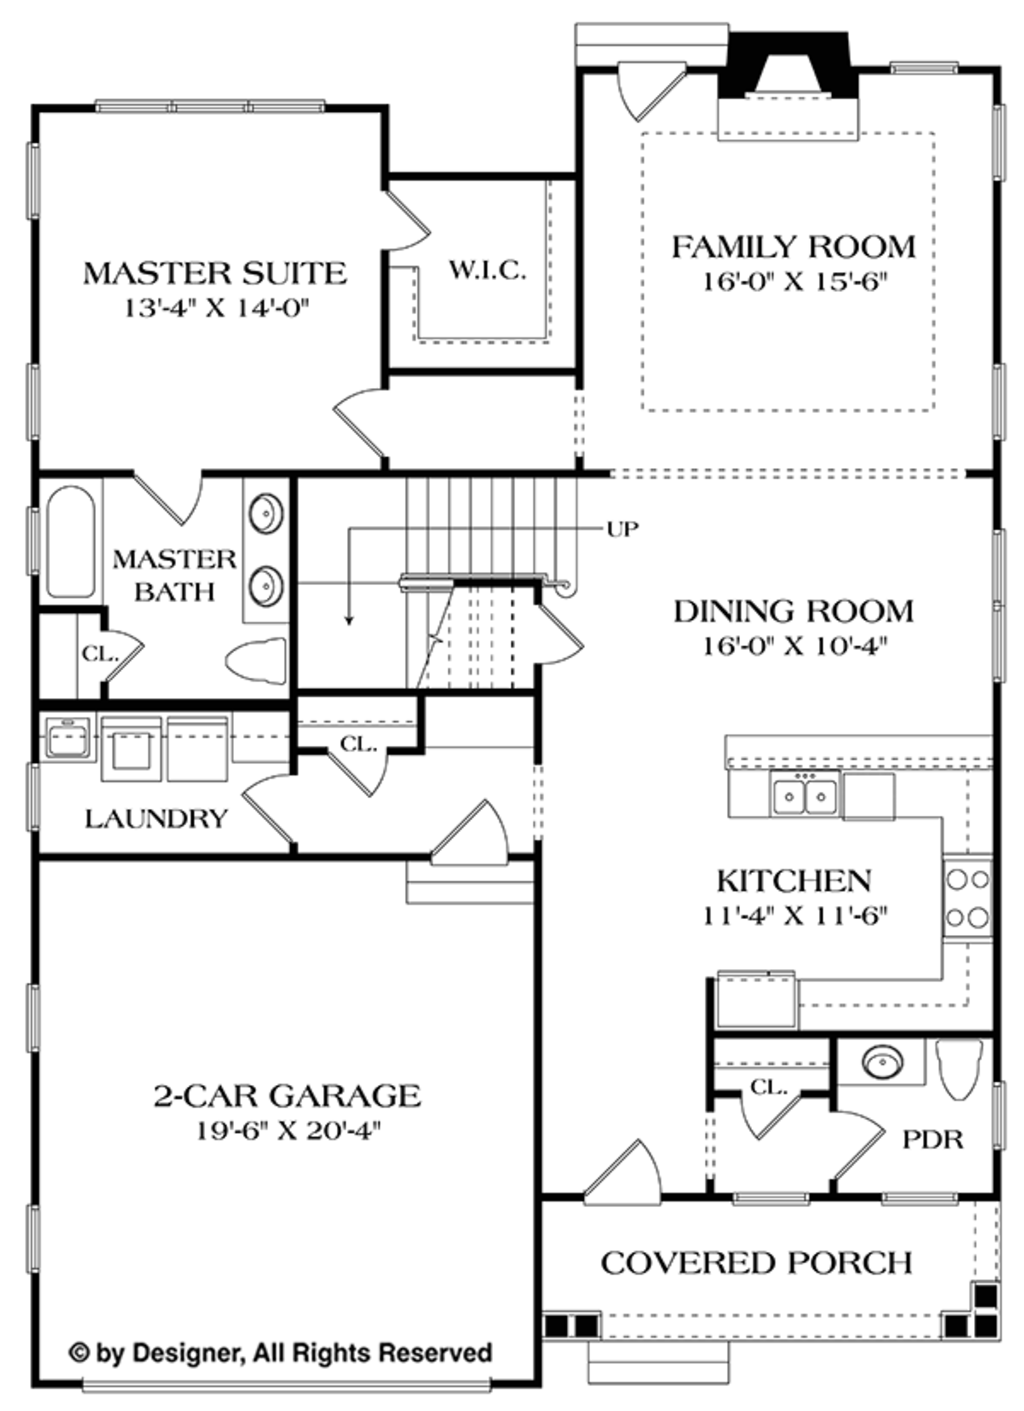door: (243, 775, 300, 854), (619, 61, 695, 121), (430, 807, 510, 859), (589, 1144, 660, 1200), (133, 470, 202, 521), (340, 387, 376, 474), (378, 190, 432, 248), (843, 1108, 887, 1178), (330, 746, 389, 796), (534, 607, 574, 661), (752, 1098, 806, 1137), (108, 633, 133, 692)
small_sink: (841, 1031, 928, 1089)
stairs: (302, 481, 578, 585)
tub: (51, 481, 97, 598)
twin_sink: (243, 478, 291, 626), (774, 778, 839, 813)
